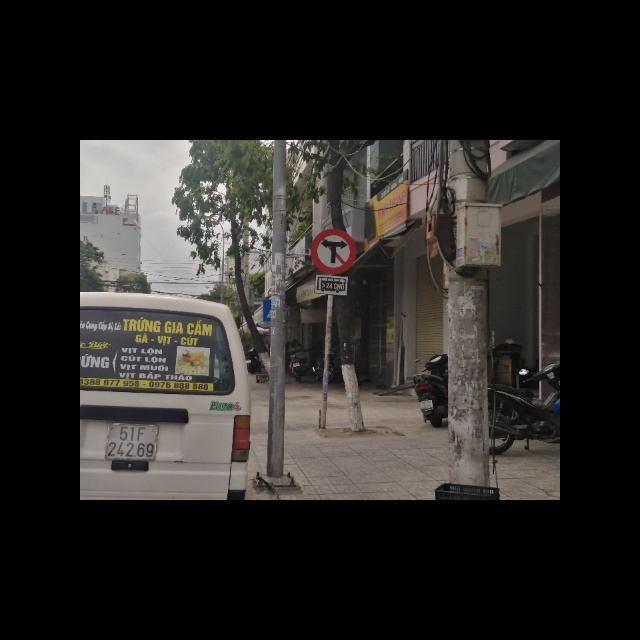Cấm rẽ trái và rẽ phải: (310, 229, 356, 275)
